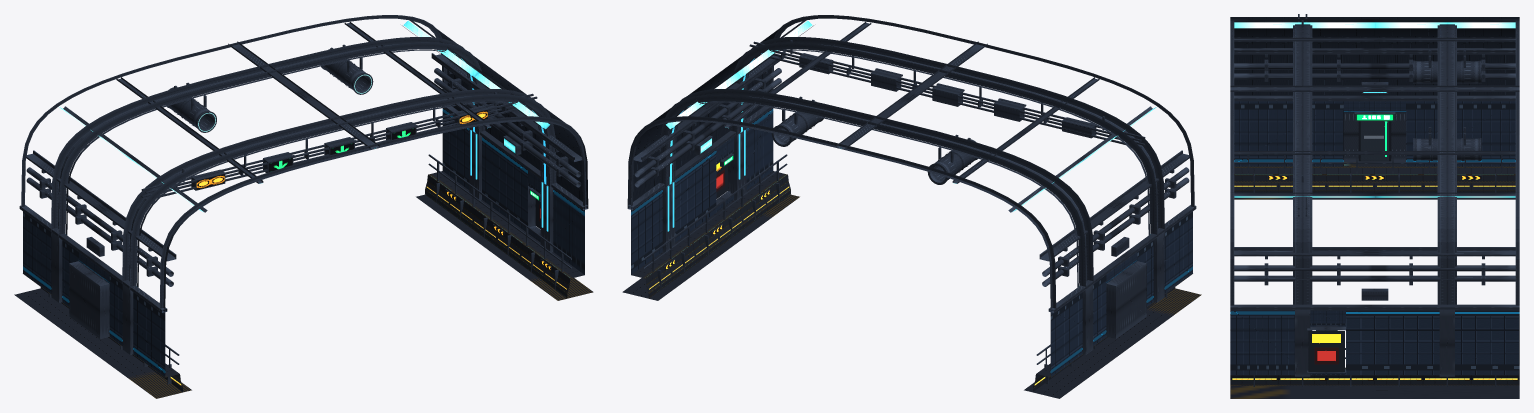
File: night-drive-tunnel.glb
The picture shows the model from 3 angles, left to right: view 1: azimuth 30°, elevation 25°; view 2: azimuth 150°, elevation 25°; view 3: azimuth 270°, elevation 25°; orthographic projection.
Visible parts, largest first — view 1: night-drive-tunnel, TunnelArchLED; view 2: night-drive-tunnel, TunnelArchLED; view 3: night-drive-tunnel.
Boxes of the visible parts, bbox=[...] form: night-drive-tunnel: bbox=[14, 15, 593, 398]; TunnelArchLED: bbox=[453, 53, 548, 231]; night-drive-tunnel: bbox=[622, 15, 1201, 398]; TunnelArchLED: bbox=[667, 53, 762, 231]; night-drive-tunnel: bbox=[1230, 14, 1519, 398].
Size of the model in its own units: 21.33 by 9.29 by 12.
Materials: 3 (1 with a texture image).
